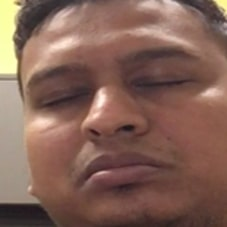drowsy: (24, 44, 212, 195)
